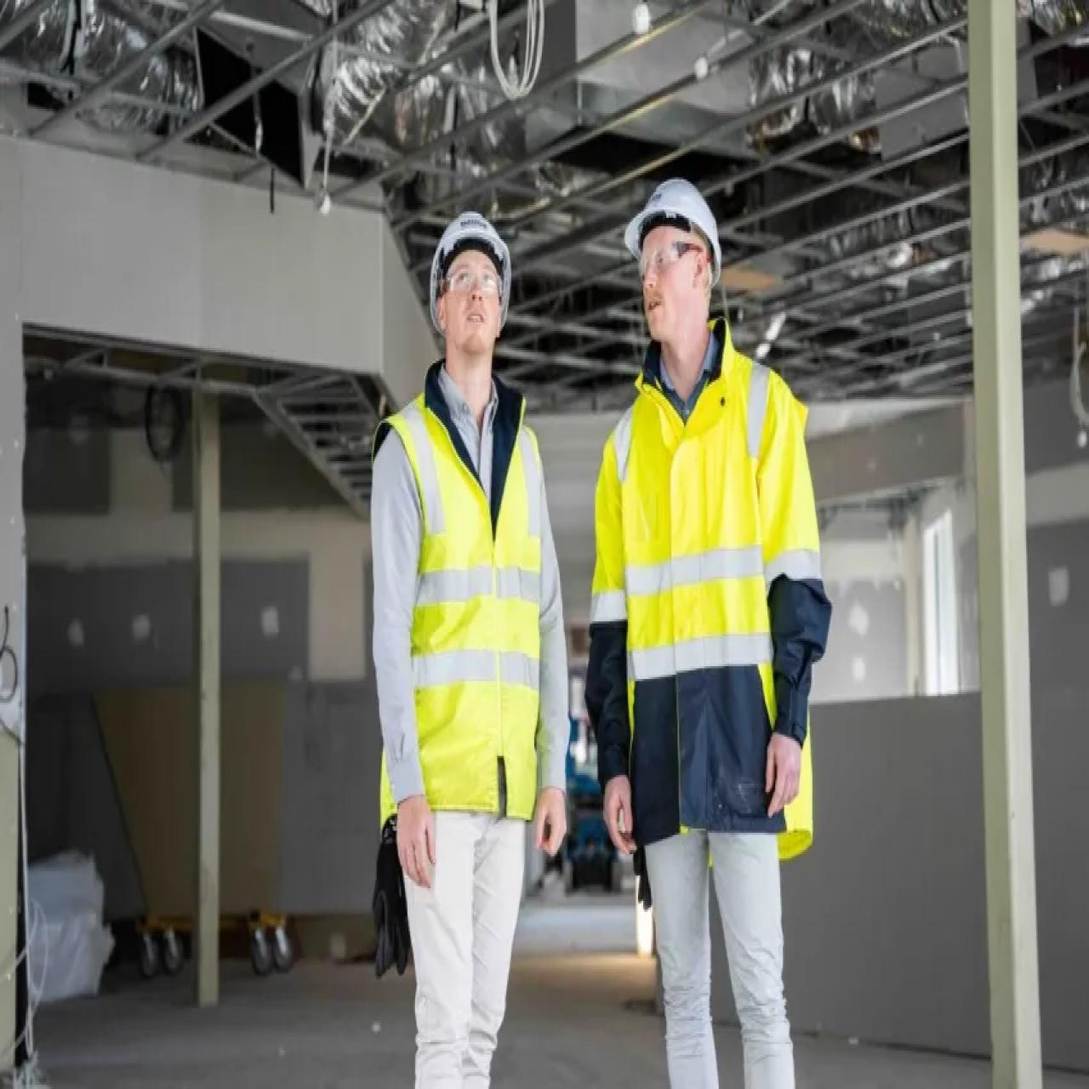NO_Safety_Vest: (604, 362, 819, 815)
Person: (586, 162, 832, 1089), (362, 202, 573, 1089)
Safety_Vest: (376, 382, 553, 833)
